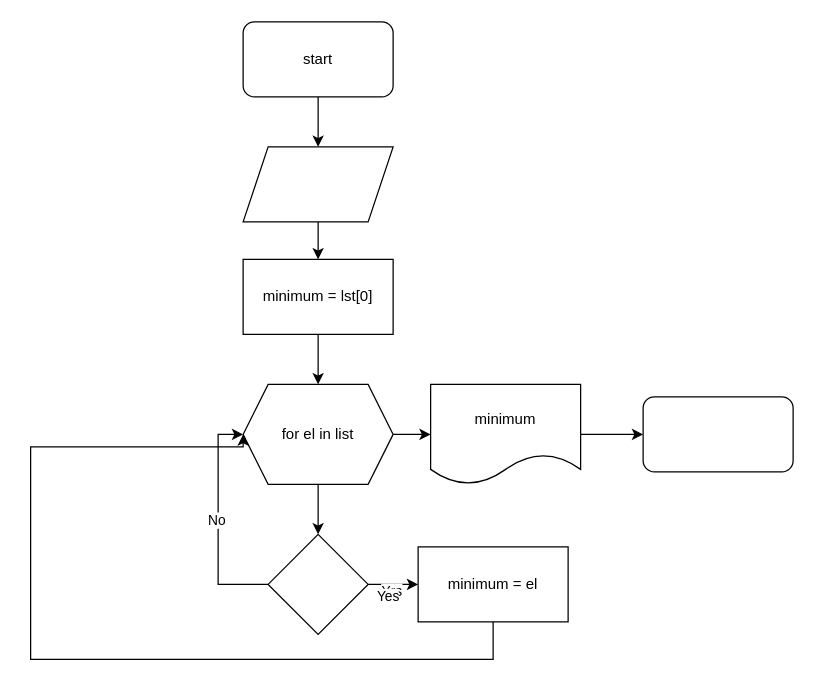
Image size: 815x691. Some labels were removed from this diagram. Here are the shapes that lost their labels. From the top down, the centre of each, then its label:
At (317,184): "lst[int]".
At (717,434): "end".
At (317,583): "if el < minimum".
